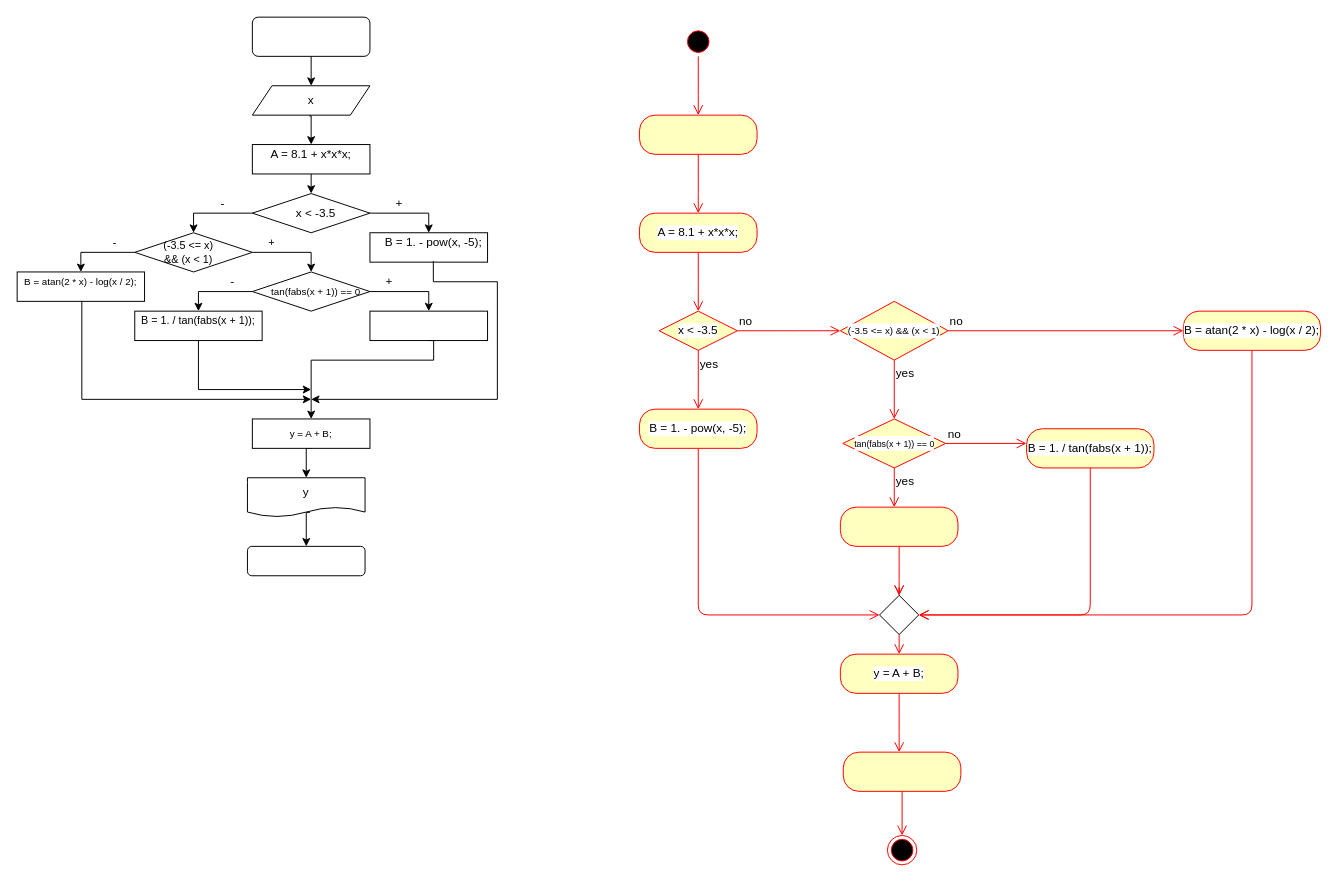
Some shapes in this 1338 by 882 pixel diagram are drawn without their labels. Each missing label, with the centre of its shape:
B = 1.: point (428, 325)
B = 1.;: point (898, 526)
ввід х: point (697, 134)
вивід "y": point (901, 771)
кінець: point (305, 560)
Початок: point (310, 36)
